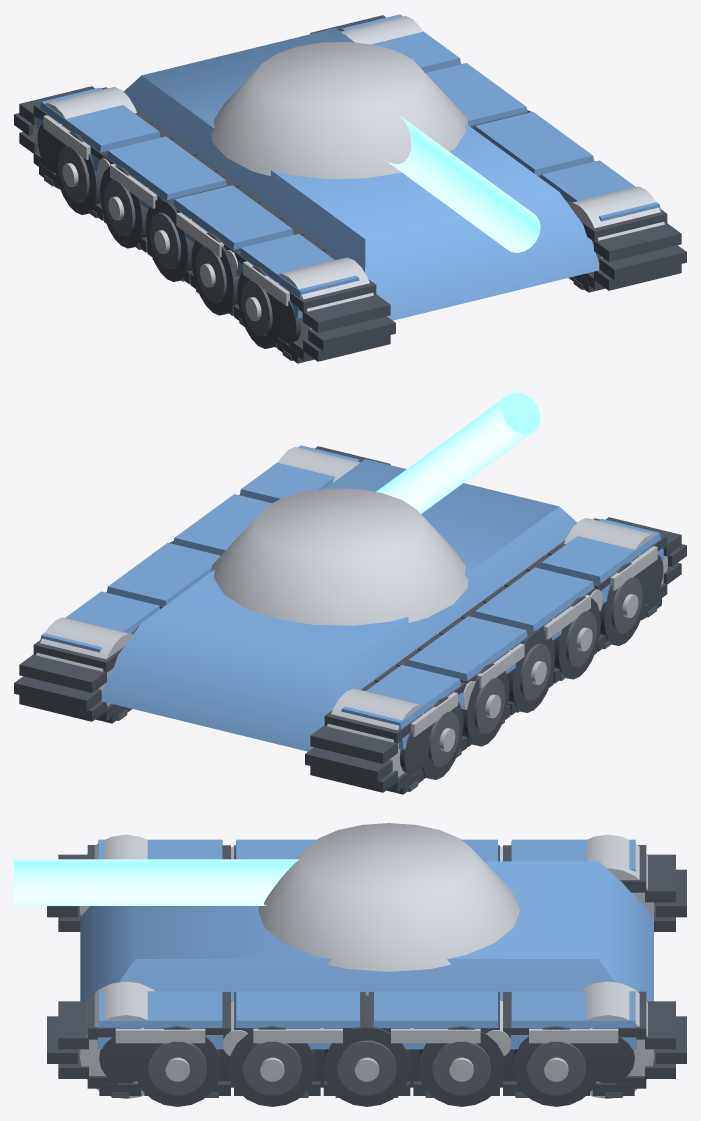
File: mgtk.glb
3 renders of one model, top to bottom at view 1: azimuth 30°, elevation 25°; view 2: azimuth 150°, elevation 25°; view 3: azimuth 270°, elevation 25°, orthographic. The views are drawn at different scales.
Parts seen in each view (by area): view 1: Hull, Turret, Barrel; view 2: Hull, Turret, Barrel; view 3: Hull, Turret, Barrel.
Part boxes in pixels (box(x1,y1,x2,y2)): Hull: box(14, 14, 686, 363); Turret: box(211, 42, 468, 179); Barrel: box(384, 116, 540, 252); Hull: box(14, 445, 686, 794); Turret: box(211, 488, 468, 625); Barrel: box(376, 392, 540, 513); Hull: box(47, 834, 686, 1106); Turret: box(258, 823, 519, 971); Barrel: box(14, 859, 299, 905).
Bounding box in the file's own units: 1.98 × 0.7417 × 2.93.
